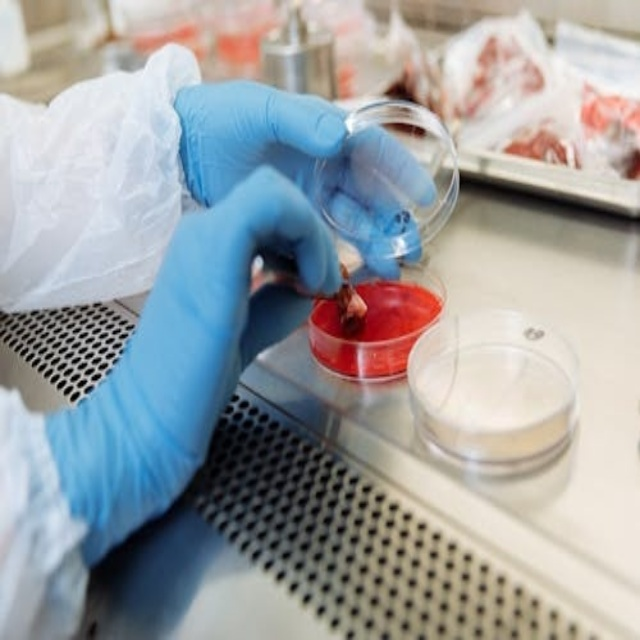Guantes: (37, 165, 343, 563), (175, 78, 438, 278)
